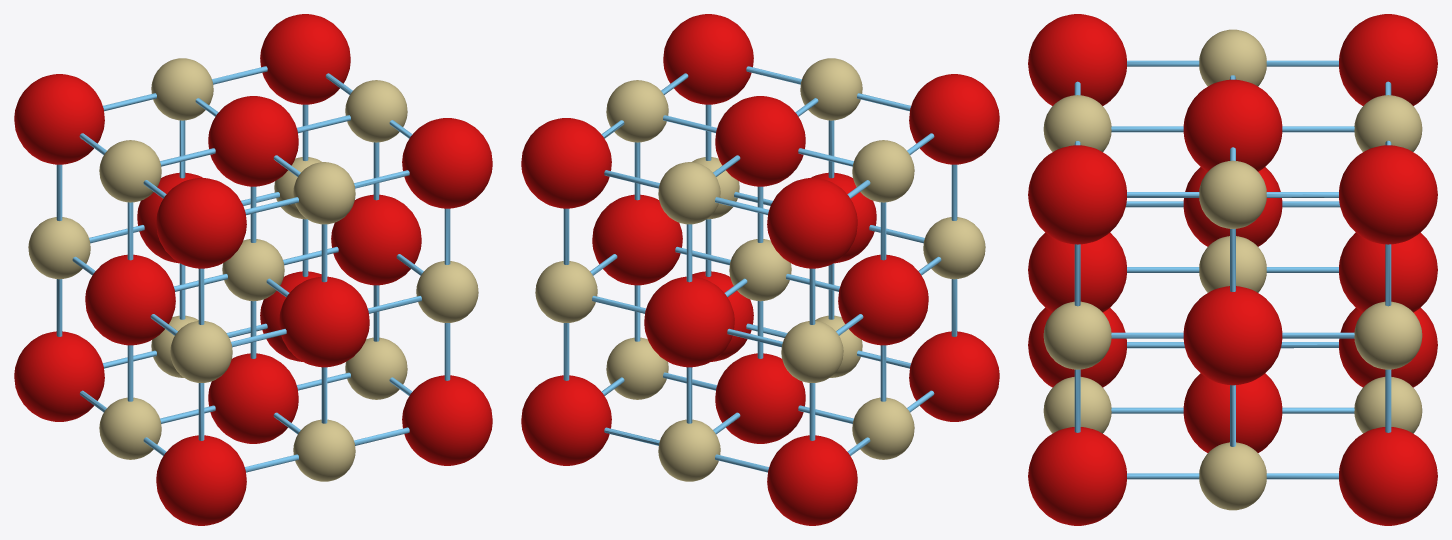
The model's file is lizi1.FBX.
3 renders of one model, left to right at view 1: azimuth 30°, elevation 25°; view 2: azimuth 150°, elevation 25°; view 3: azimuth 270°, elevation 25°, orthographic. The views are drawn at different scales.
Parts seen in each view (by area): view 1: 图形003, Sphere159, Sphere163, Sphere160, Sphere161, Sphere170, Sphere157, Sphere158, Sphere162, Sphere164, Sphere167, Sphere166 (+16 smaller); view 2: 图形003, Sphere157, Sphere164, Sphere158, Sphere165, Sphere169, Sphere159, Sphere160, Sphere162, Sphere163, Sphere167, Sphere166 (+16 smaller); view 3: 图形003, Sphere158, Sphere160, Sphere161, Sphere165, Sphere168, Sphere157, Sphere159, Sphere162, Sphere169, Sphere170, Sphere166 (+13 smaller).
Boxes of the visible parts, x1,y1,x2,y2 form: 图形003: (56, 66, 450, 472); Sphere159: (156, 178, 246, 268); Sphere163: (156, 435, 246, 525); Sphere160: (402, 118, 492, 208); Sphere161: (402, 375, 492, 465); Sphere170: (279, 276, 369, 367); Sphere157: (14, 74, 104, 164); Sphere158: (260, 14, 350, 104); Sphere162: (208, 96, 298, 186); Sphere164: (14, 331, 104, 421); Sphere167: (85, 254, 175, 345); Sphere166: (208, 353, 298, 443); 图形003: (563, 66, 957, 472); Sphere157: (767, 178, 857, 268); Sphere164: (767, 435, 857, 525); Sphere158: (521, 118, 611, 208); Sphere165: (521, 375, 611, 465); Sphere169: (644, 276, 734, 367); Sphere159: (909, 74, 999, 164); Sphere160: (663, 14, 753, 104); Sphere162: (715, 96, 805, 186); Sphere163: (909, 331, 999, 421); Sphere167: (838, 254, 928, 345); Sphere166: (715, 353, 805, 443); 图形003: (1074, 60, 1391, 479); Sphere158: (1339, 145, 1437, 244); Sphere160: (1028, 145, 1126, 244); Sphere161: (1028, 427, 1126, 525); Sphere165: (1339, 427, 1437, 525); Sphere168: (1183, 286, 1282, 385); Sphere157: (1339, 14, 1437, 105); Sphere159: (1028, 14, 1126, 105); Sphere162: (1183, 79, 1282, 171); Sphere169: (1339, 232, 1437, 312); Sphere170: (1028, 232, 1126, 312); Sphere166: (1183, 373, 1282, 452).
Size of the model in its own units: 66 by 66 by 66.
Materials: 1 (1 with a texture image).
